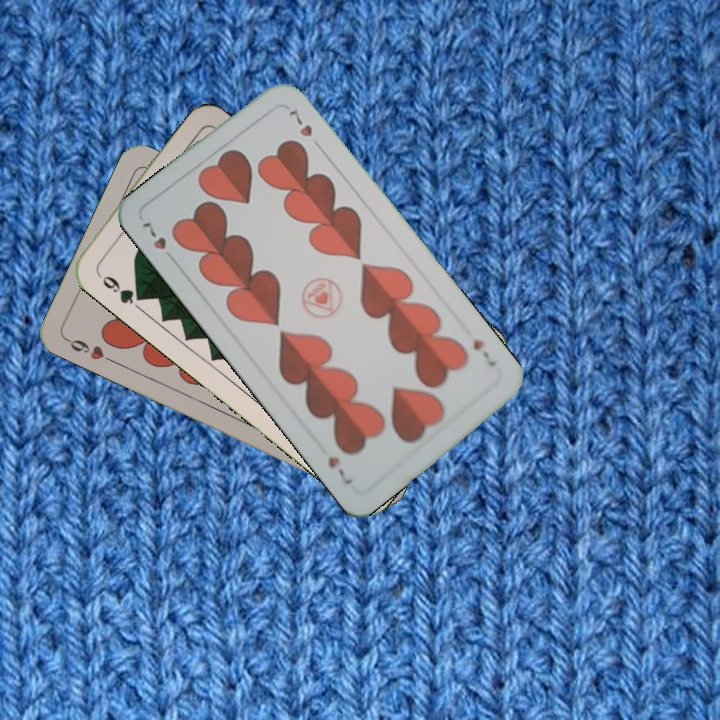G9: (92, 268, 147, 307)
H7: (138, 218, 179, 265), (469, 335, 499, 370)
H9: (61, 334, 117, 366)
